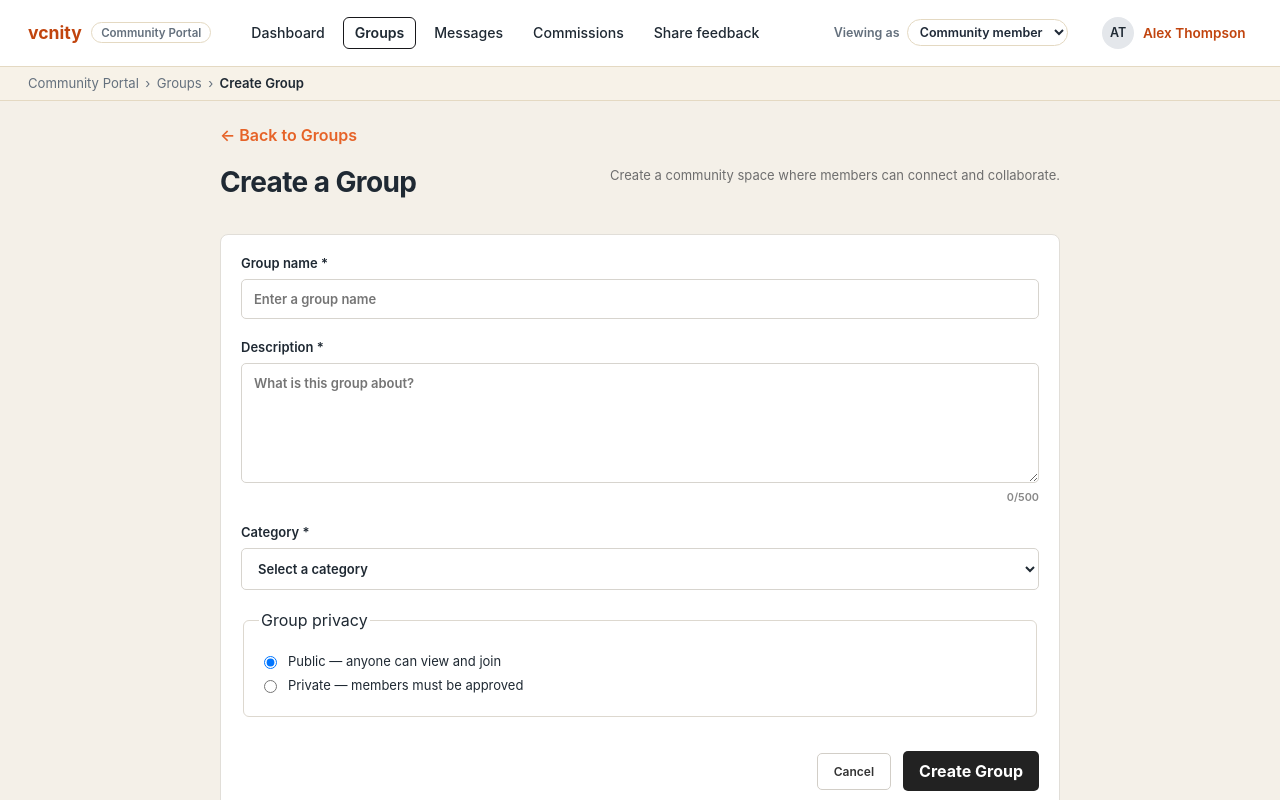
Test case: CreateGroup › shows validation errors for an empty submission
Click the button "Create Group". click: [971, 771]
box: [903,751,1039,791]
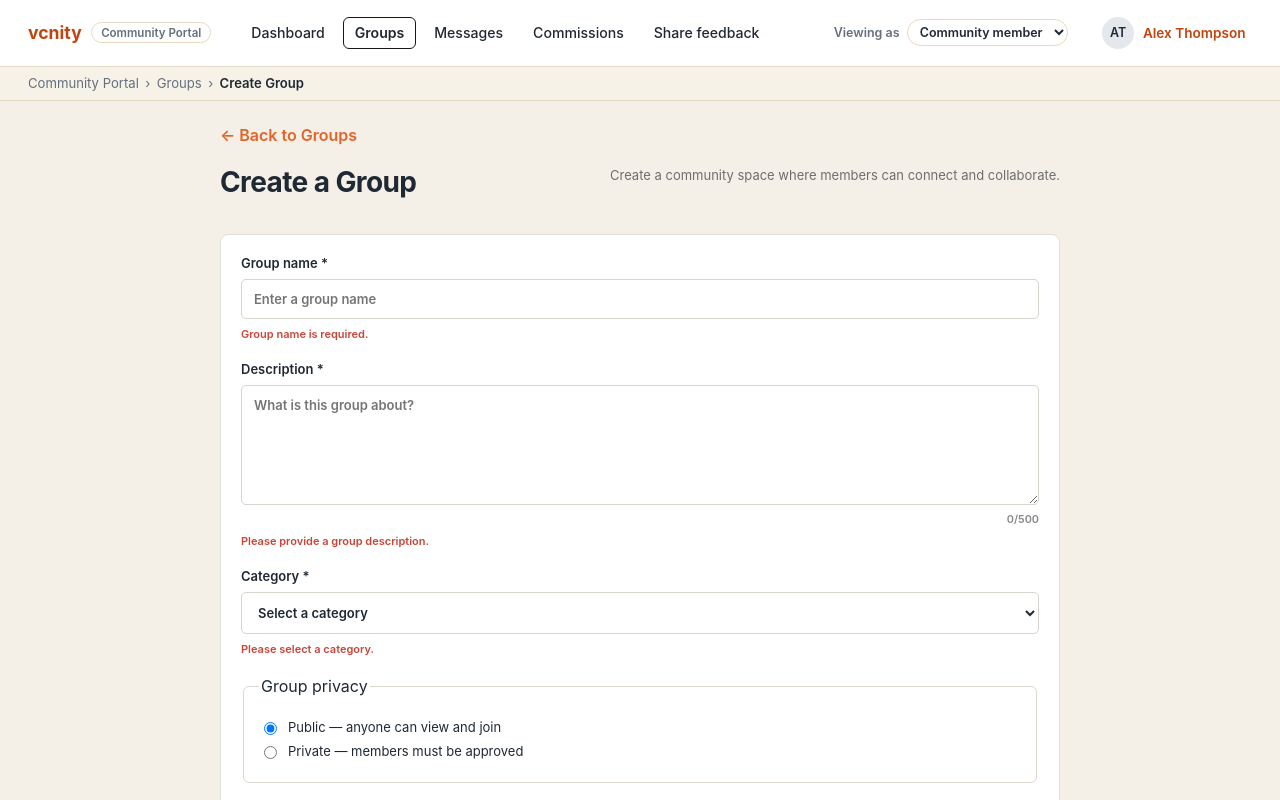
expect the text "Group name is required." is shown: met, box [241,327,368,341]
expect the text "Please provide a group description." is shown: met, box [241,534,429,548]
expect the text "Please select a category." is shown: met, box [241,642,374,656]
